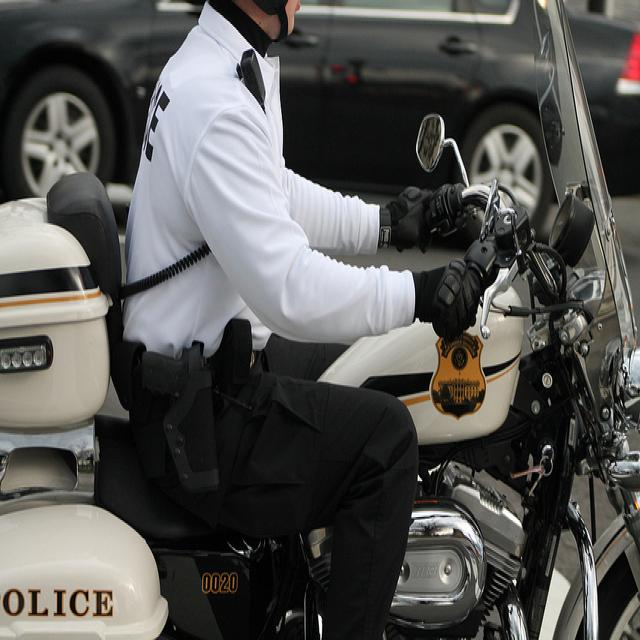motor: (1, 41, 640, 633)
